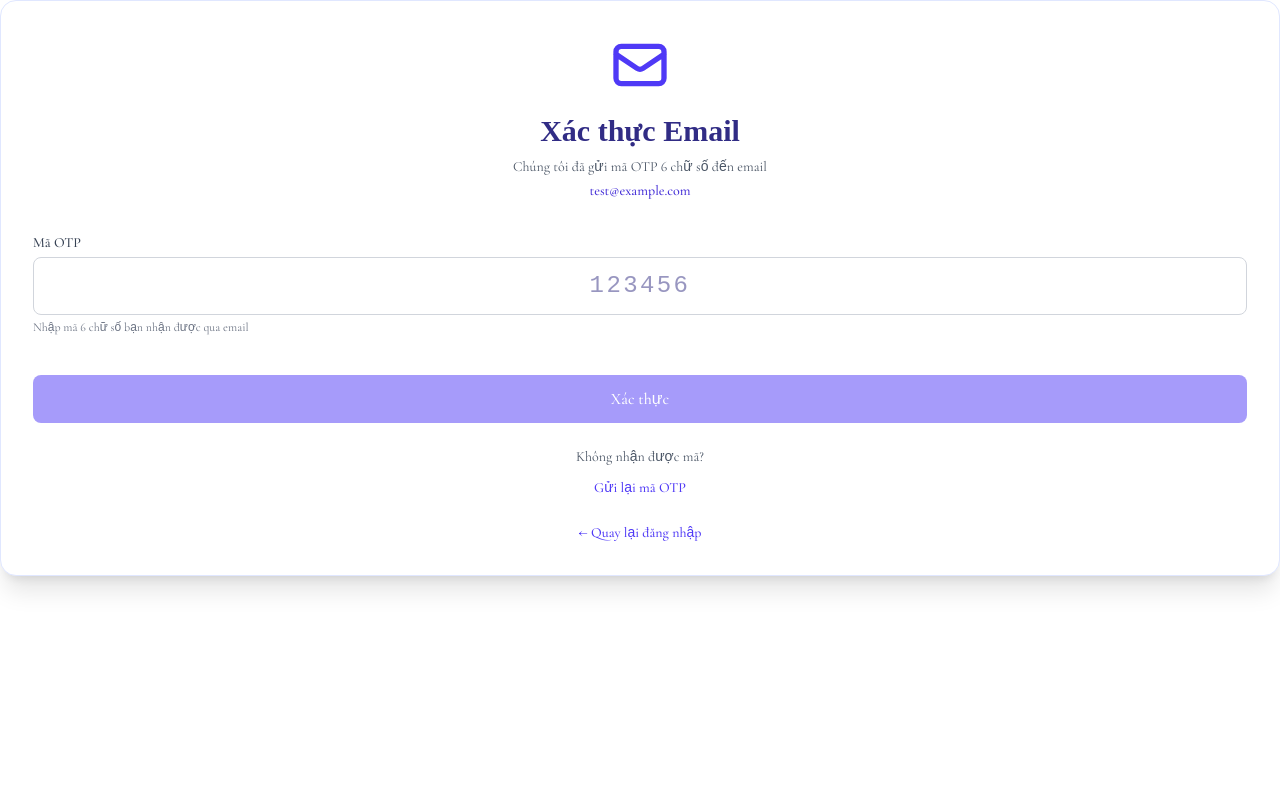
Test: VerifyOTPPage › only allows 6 digits in OTP input
Type "abc123xyz" into the field labelled "Mã OTP" at x=640, y=286, box [33,257,1247,315]
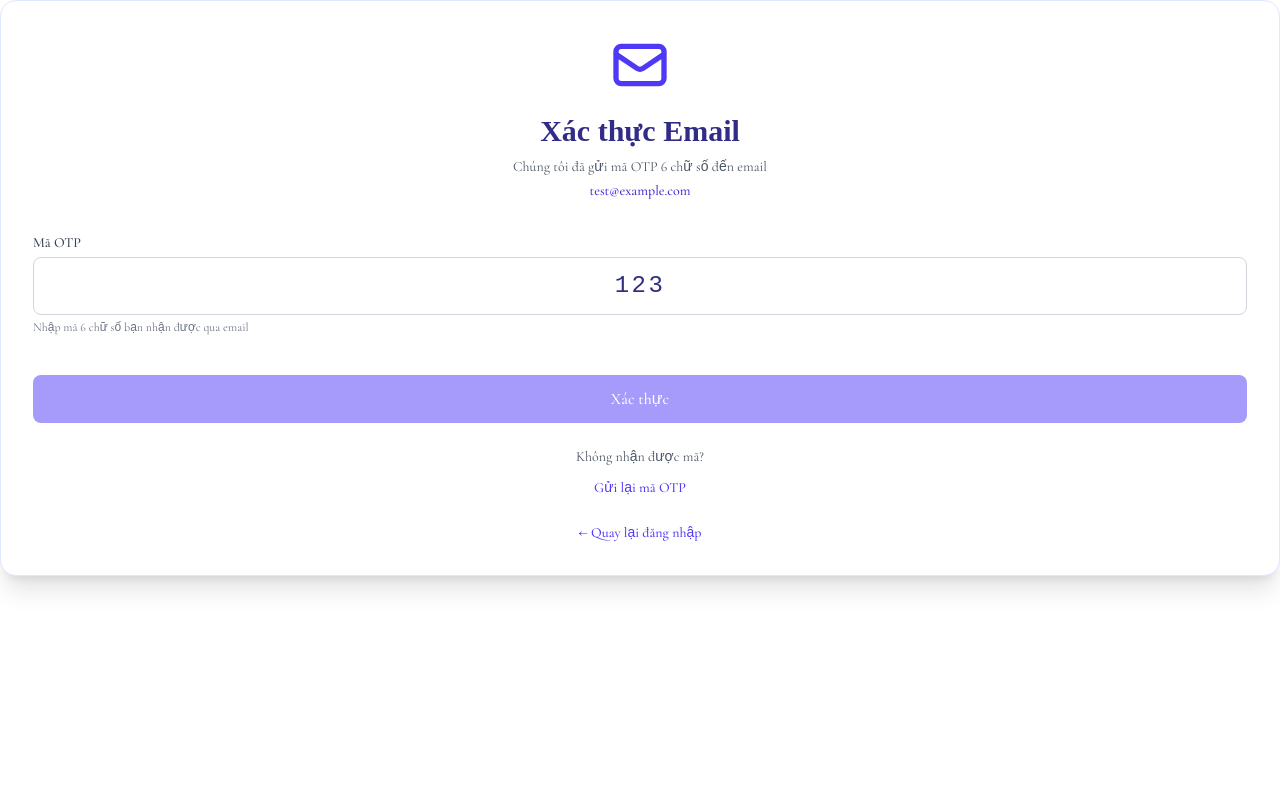
Expected: the field labelled "Mã OTP" holds "123"
Replace the text in the field labelled "Mã OTP" with "1234567890" at x=640, y=286, box [33,257,1247,315]
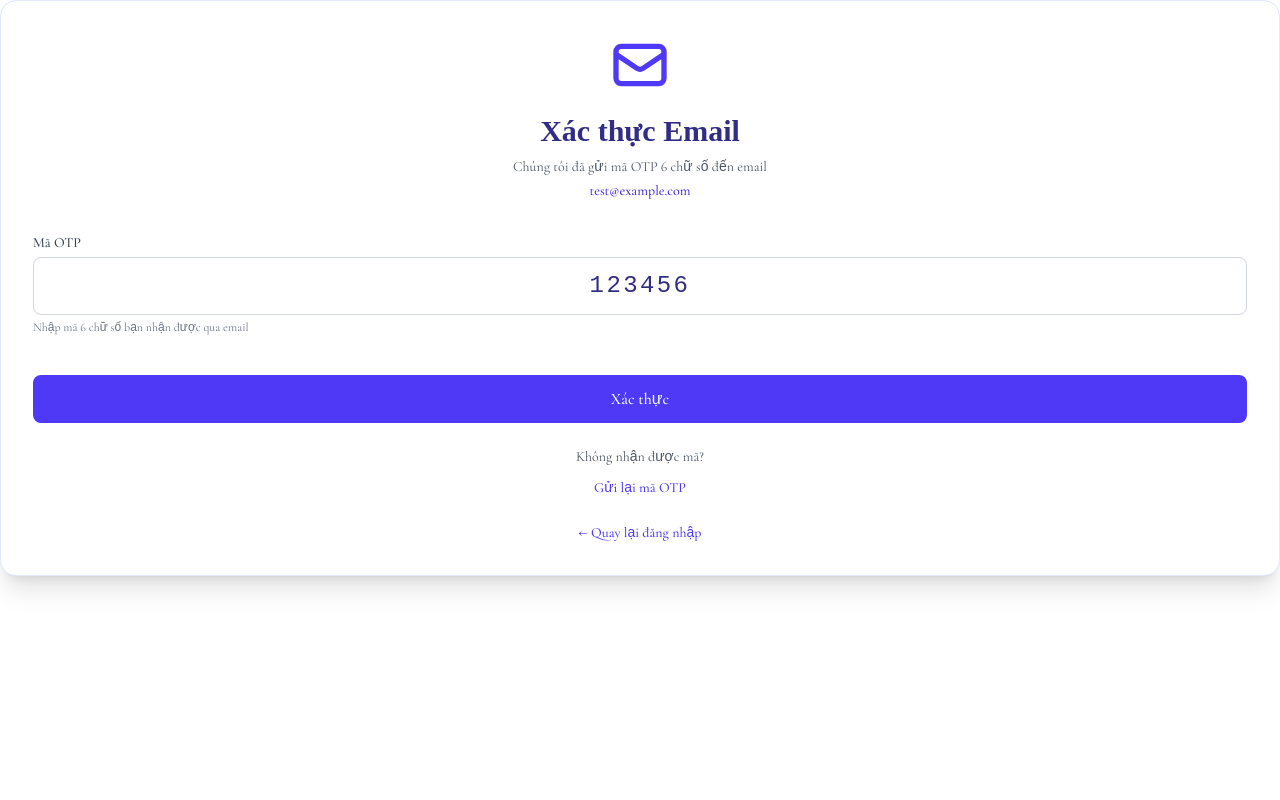
Expected: the field labelled "Mã OTP" holds "123456", [33,257,1247,315]
